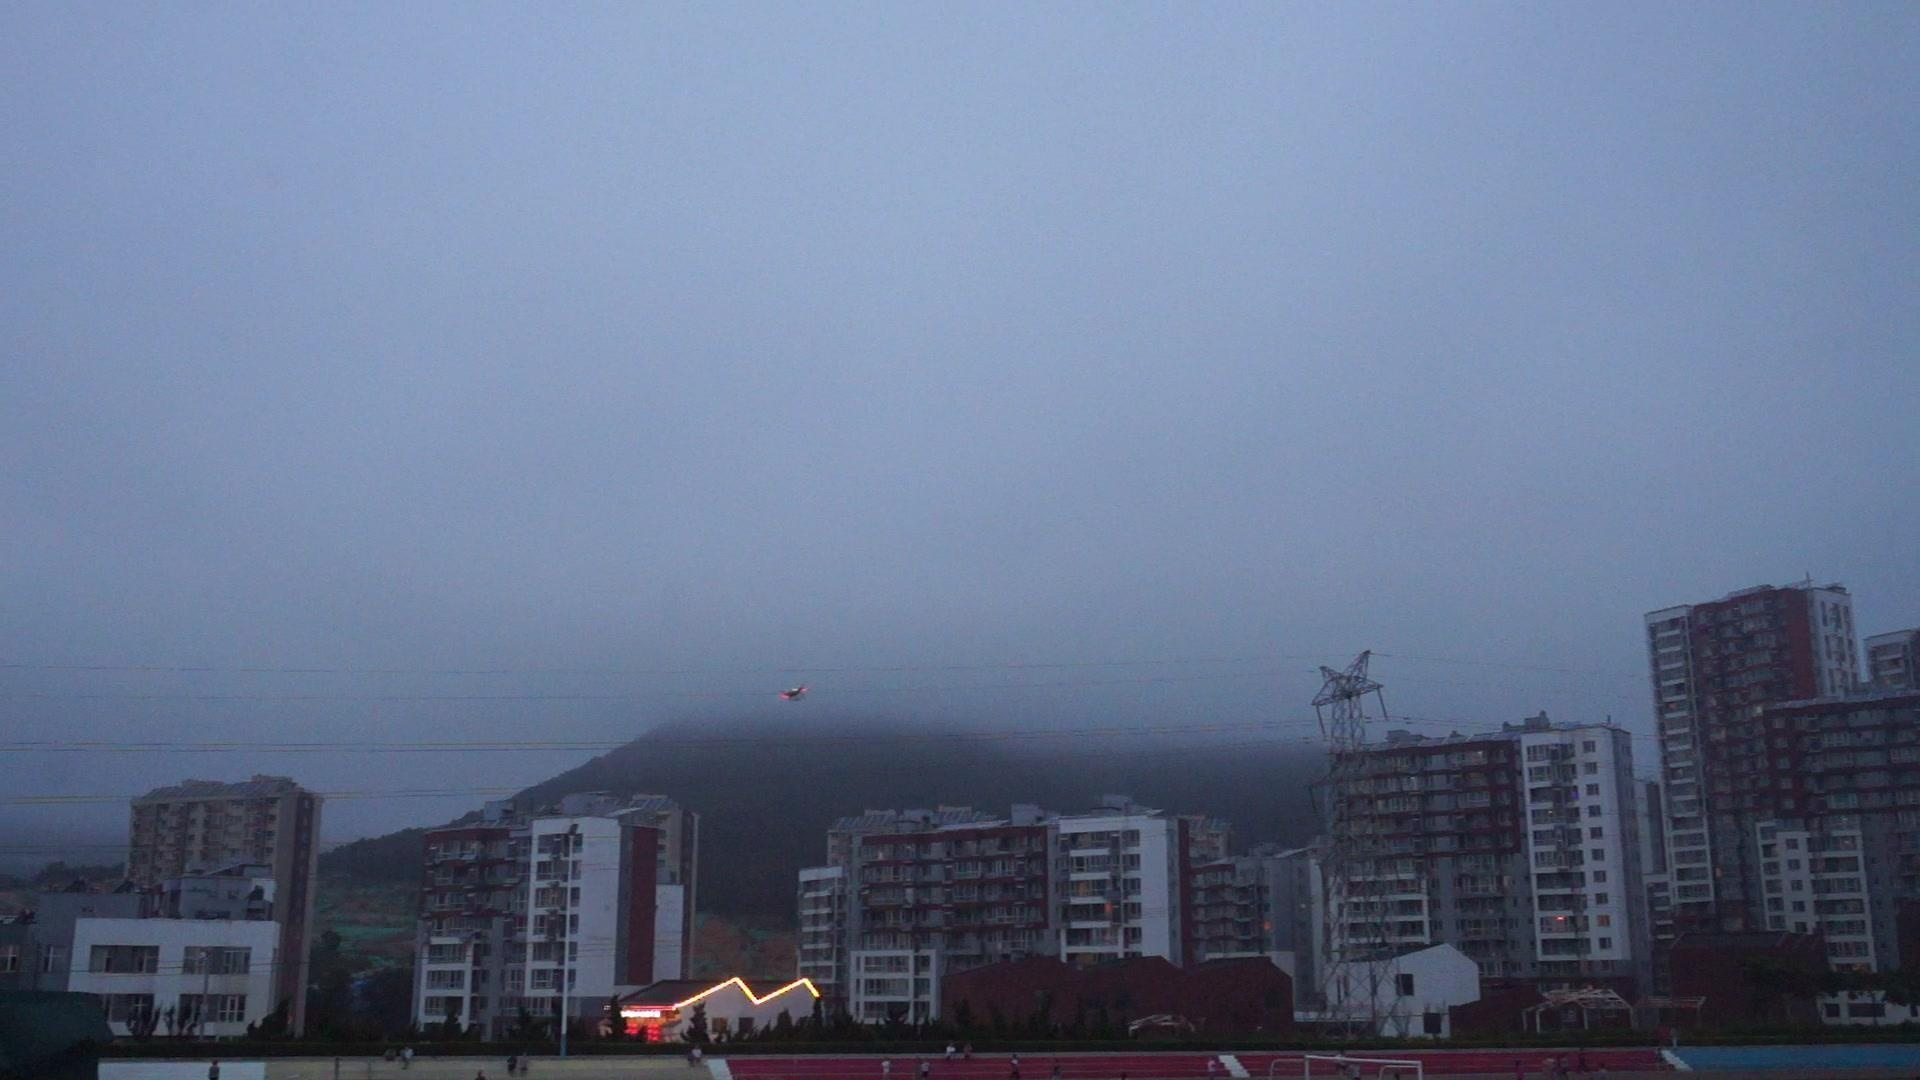UAV: (779, 684, 810, 703)
